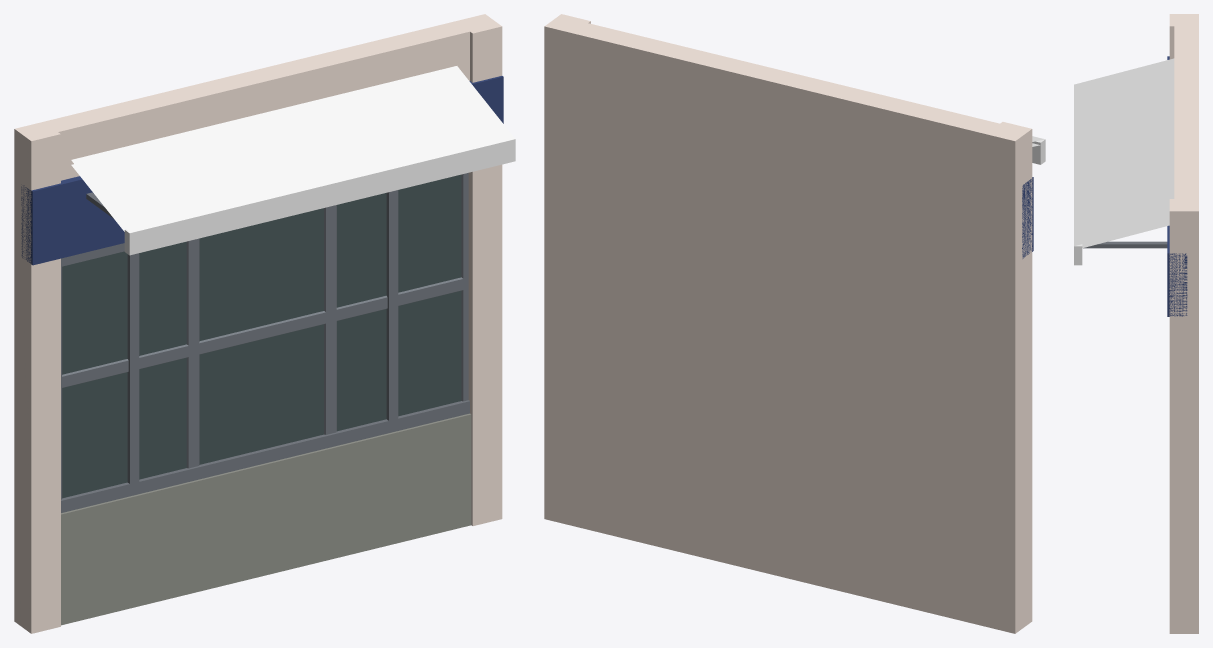
Rendered from base-w1_close.fbx.
3 renders of one model, left to right at view 1: azimuth 30°, elevation 25°; view 2: azimuth 150°, elevation 25°; view 3: azimuth 270°, elevation 25°, orthographic. The views are drawn at different scales.
Parts seen in each view (by area): view 1: a1053_base-w1.001; view 2: a1053_base-w1.001; view 3: a1053_base-w1.001.
Part boxes in pixels (x1,y1,x2,y2): a1053_base-w1.001: [14, 14, 515, 633]; a1053_base-w1.001: [544, 14, 1045, 633]; a1053_base-w1.001: [1074, 14, 1198, 633].
Size of the model in its own units: 4 by 4 by 1.07.
